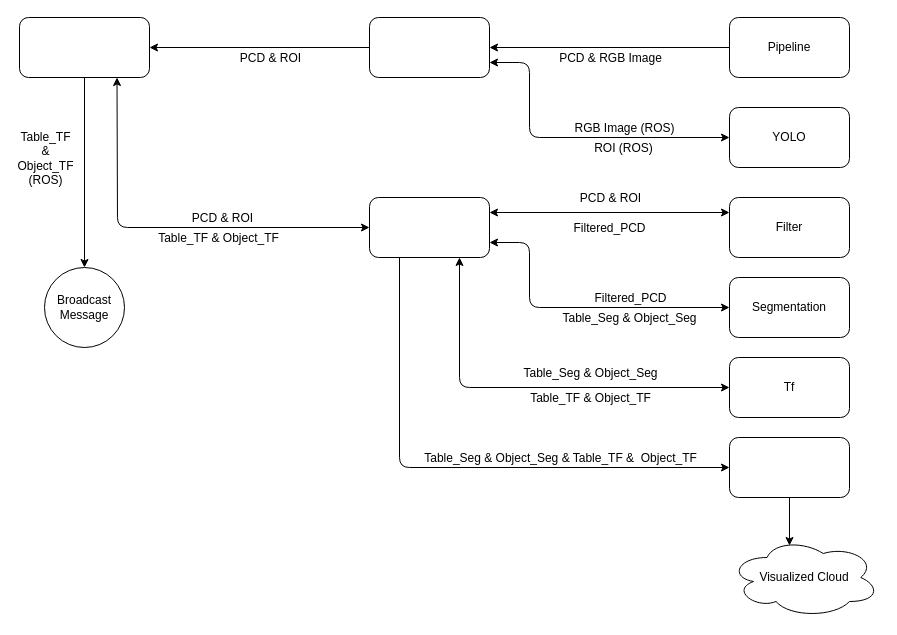
Some shapes in this 897 by 635 pixel diagram are drawn without their labels. The shapes that lost their labels are listed below. From the top down, each one's centre as x and y in pixels, then its label:
At pixel 84 47: "Main".
At pixel 429 47: "GetImages".
At pixel 429 227: "GetTF".
At pixel 789 467: "Visualization".
